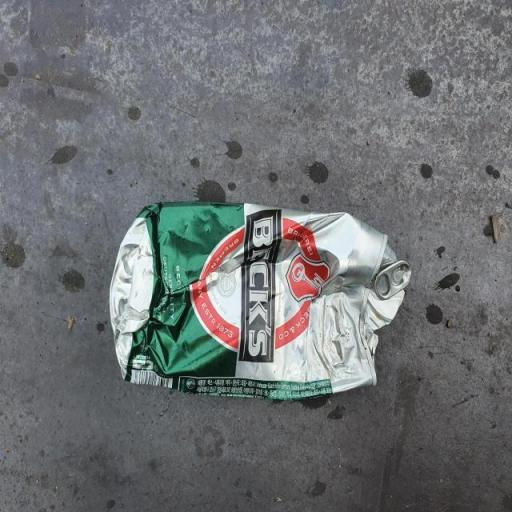metal: (101, 172, 413, 427)
